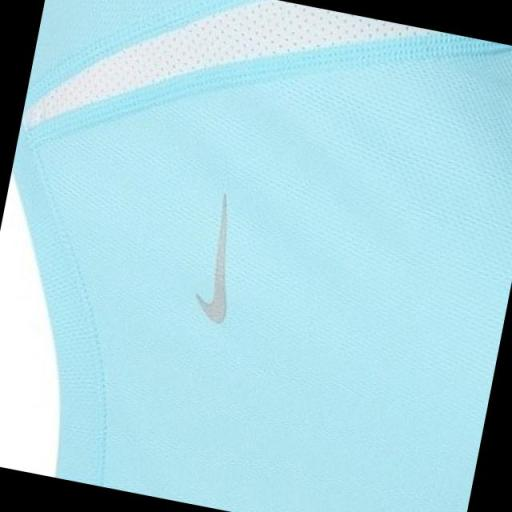Nike: (184, 174, 258, 336)
